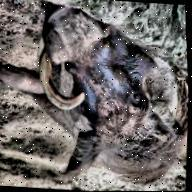boar: (2, 3, 192, 189)
